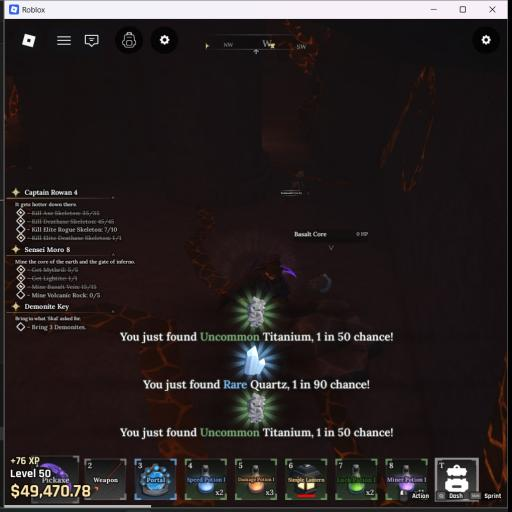player: (232, 259, 290, 301)
rock: (271, 299, 375, 380)
